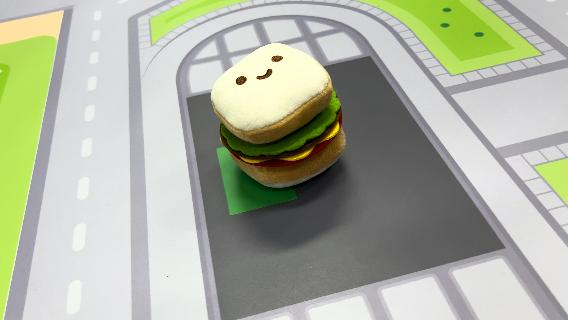sandwich: (210, 40, 348, 190)
